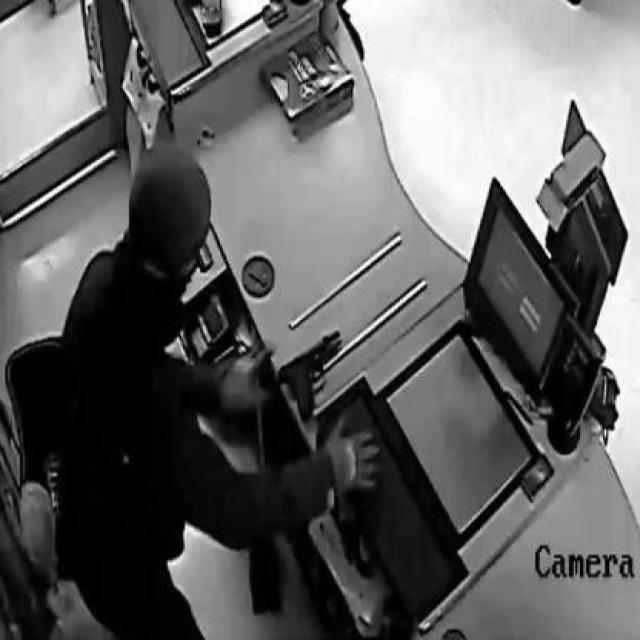weapon: (277, 330, 343, 421)
